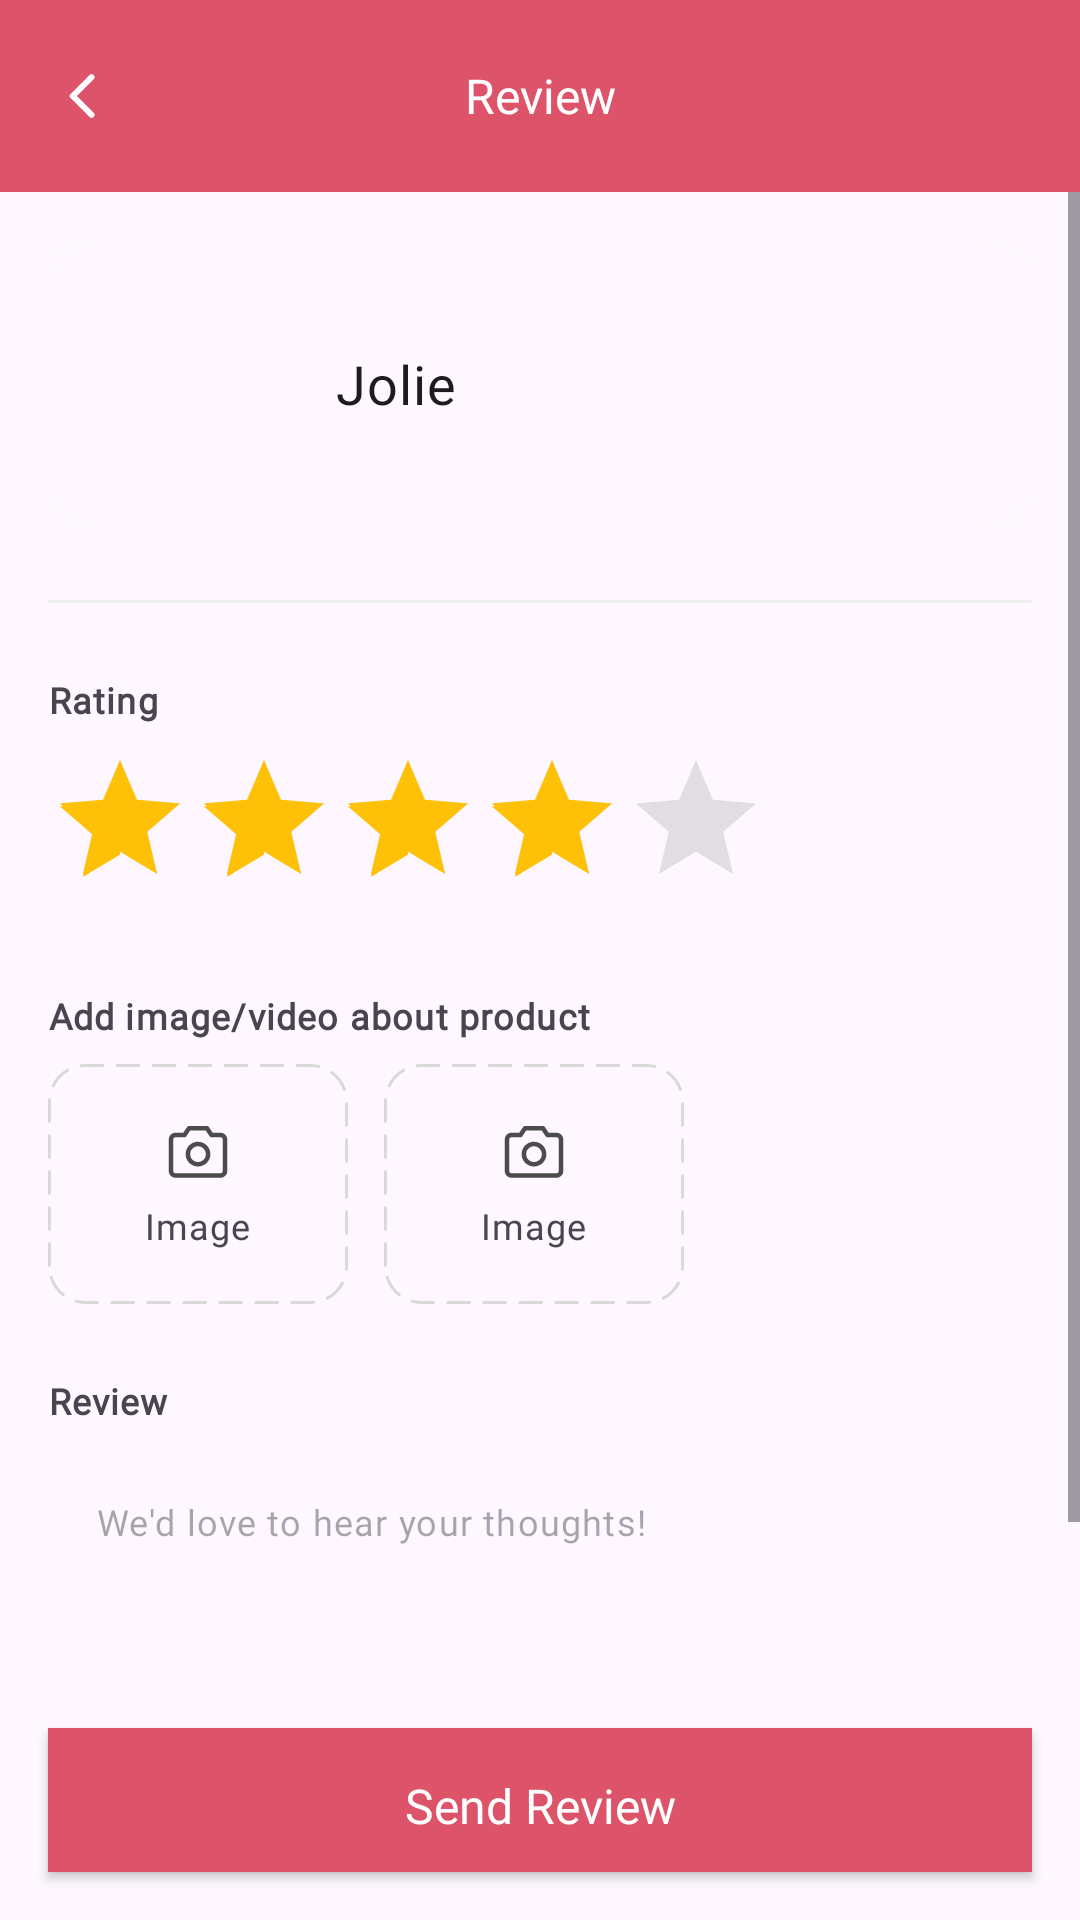

Where to tap for icons on this 1080*1920 app screen, as (x,y):
camera: (198,1152), (534,1152)
